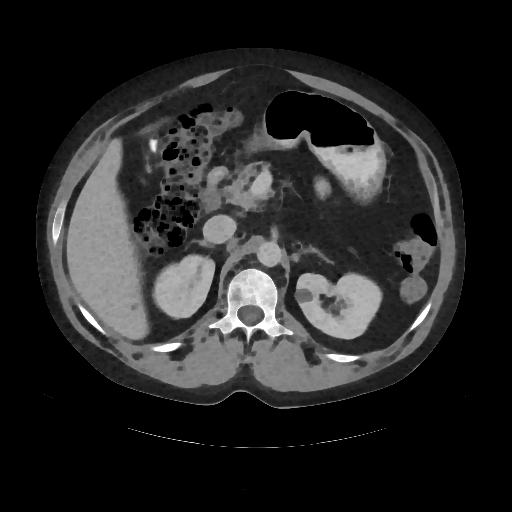Lesion: (294, 287, 315, 305)
